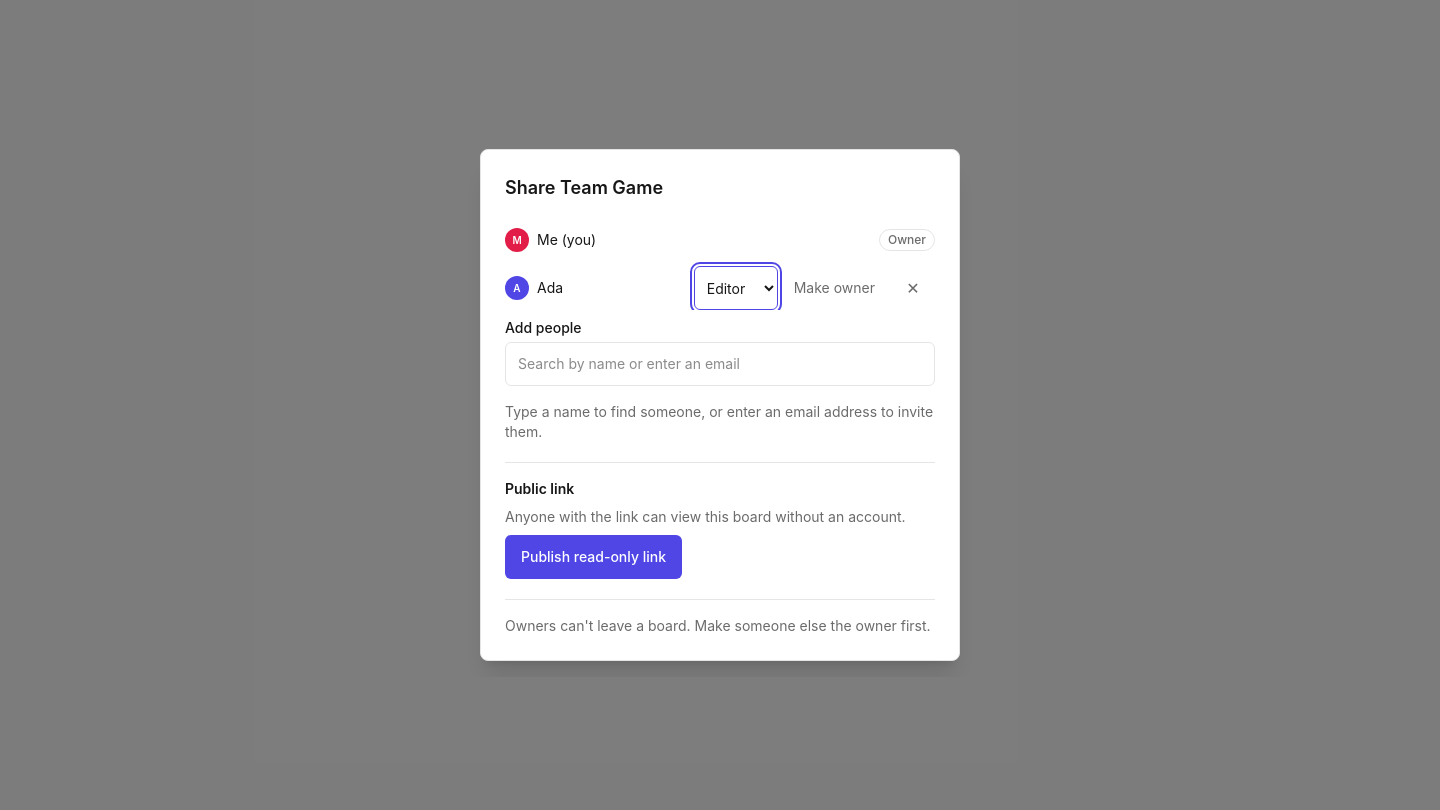
Test: ProjectMembersModal › confirms before transferring, and canceling sends nothing
Step 1. Click the button with aria-label "Make owner: Ada" → (834, 288), box [786, 266, 883, 310]
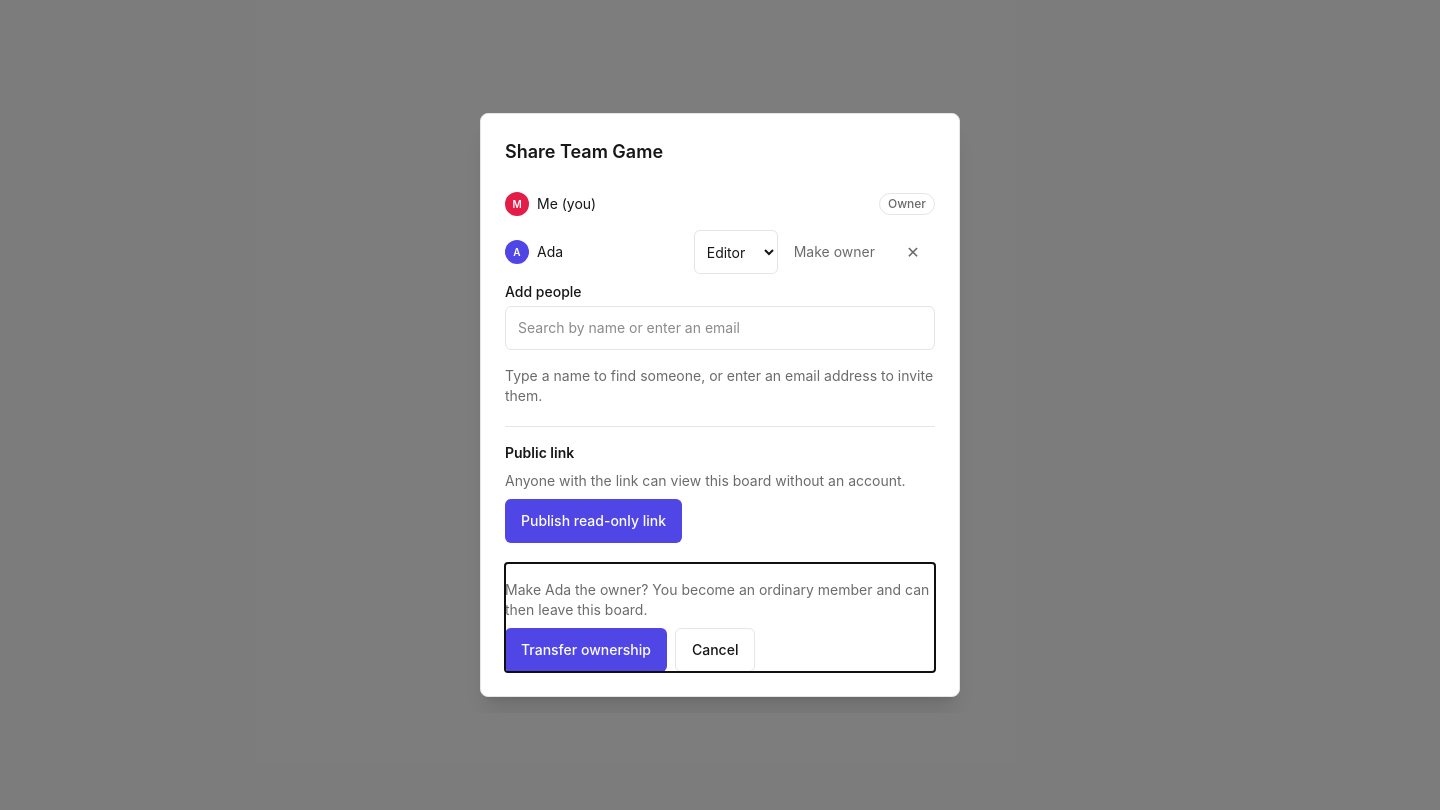
expect the text "Make Ada the owner?" is shown: met, box [505, 581, 929, 618]
Step 2. Click the button "Cancel" → (715, 650), box [675, 628, 756, 672]
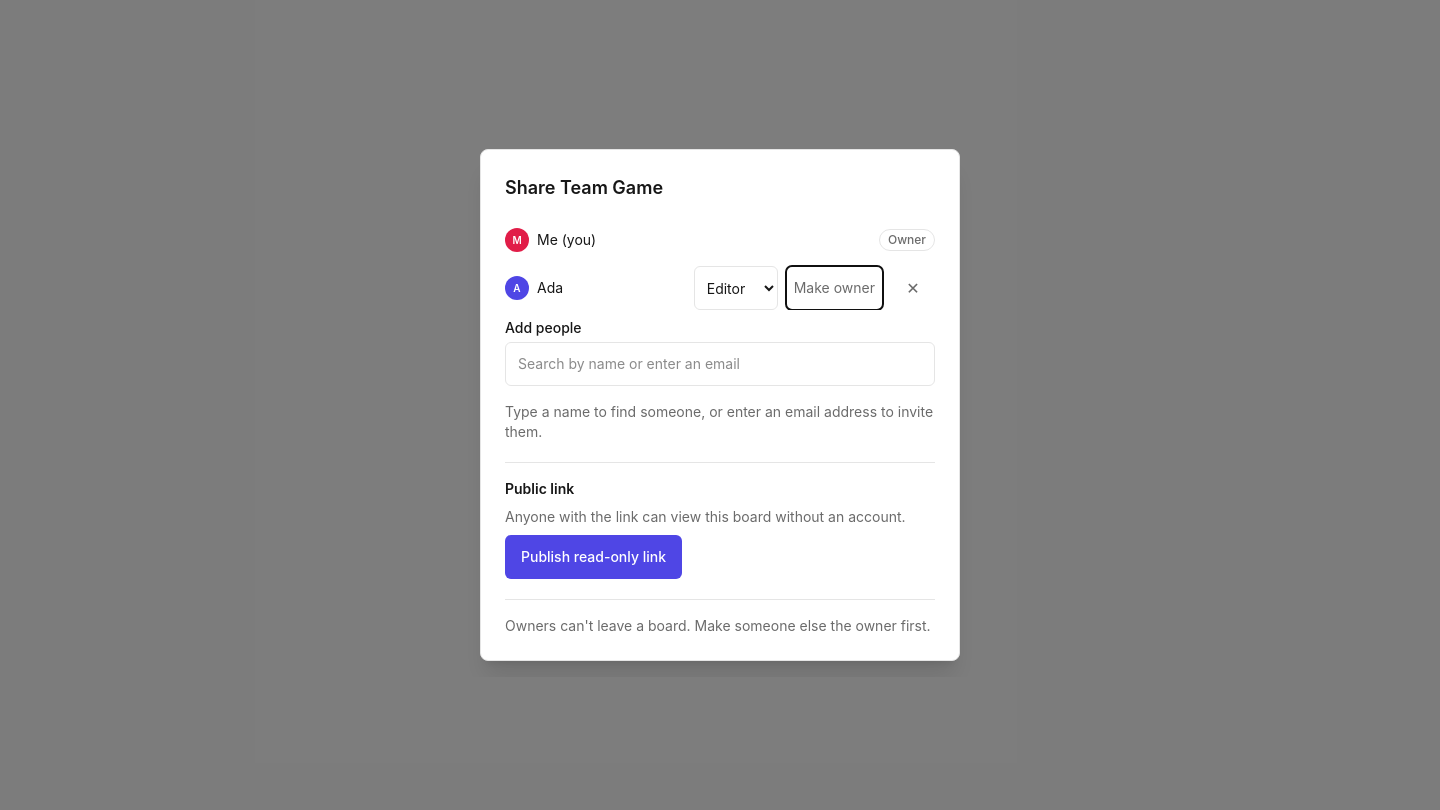
expect the text "Make Ada the owner?" is gone: met
